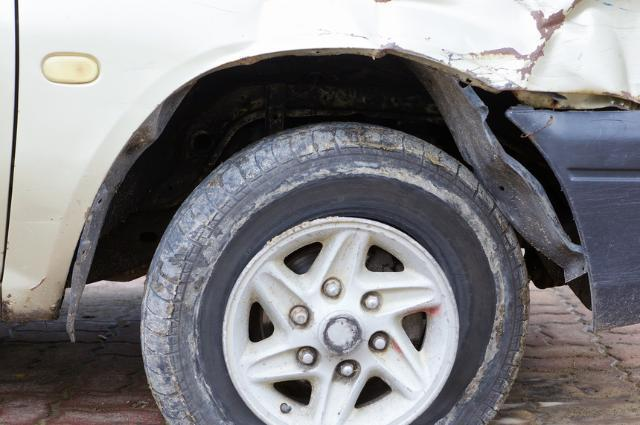Fender: (113, 0, 640, 113)
